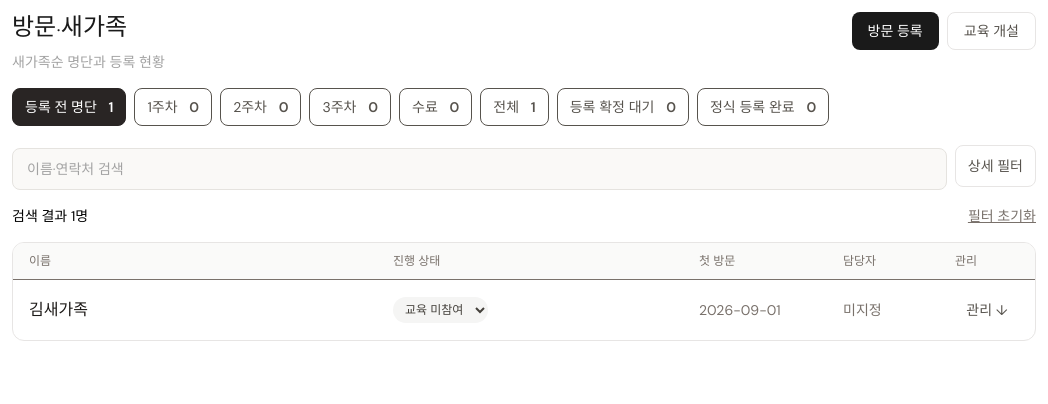
Test: 검색 결과가 없을 때 초기화로 기본 명단을 복원한다
The image size is (1048, 404).
In the field labelled "이름·연락처 검색": [479, 169] box top-left (12, 148), bottom-right (947, 190), type "없는사람"
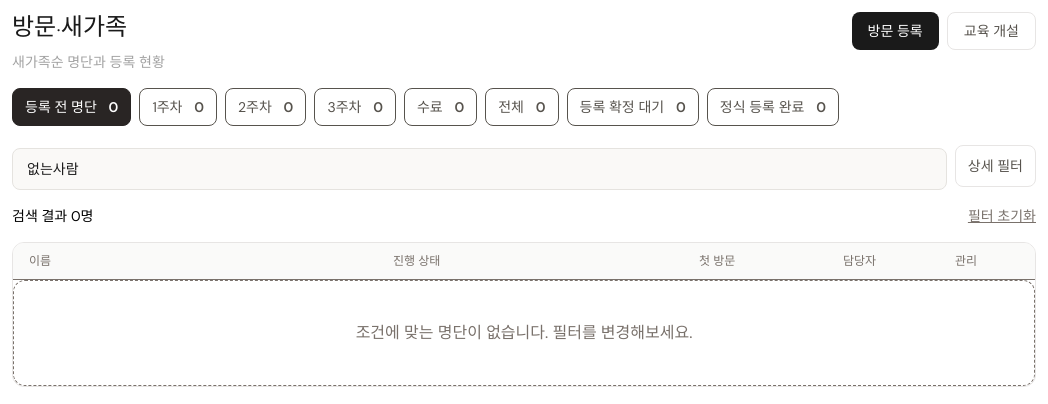
expect the text "조건에 맞는 명단이 없습니다. 필터를 변경해보세요." is shown: met, box top-left (13, 280), bottom-right (1035, 386)
Click the button "필터 초기화": [1002, 216] box top-left (968, 206), bottom-right (1036, 226)
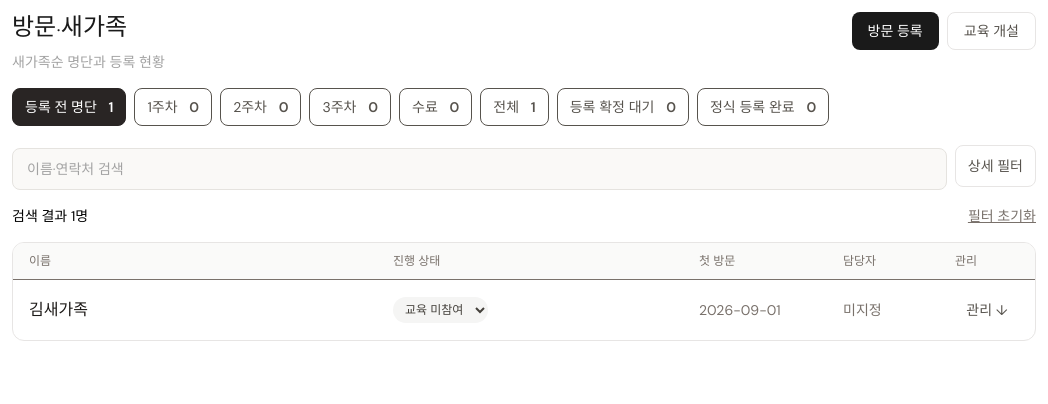
expect the link with aria-label "김새가족 상세 보기" is shown: met, box top-left (29, 299), bottom-right (88, 320)
